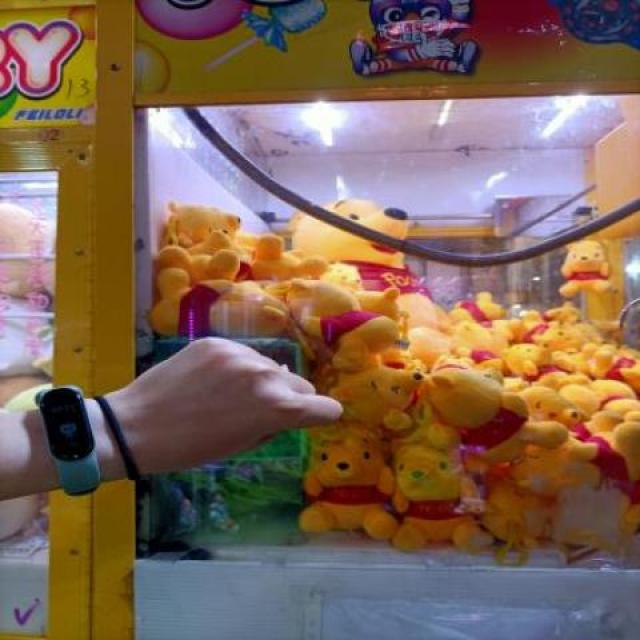Closed Hand: (121, 337, 347, 486)
